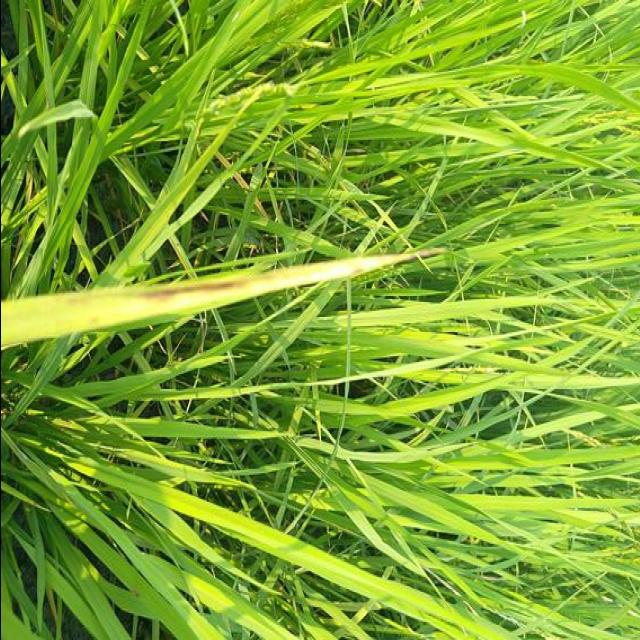Leaf Blight: (144, 251, 419, 325)
